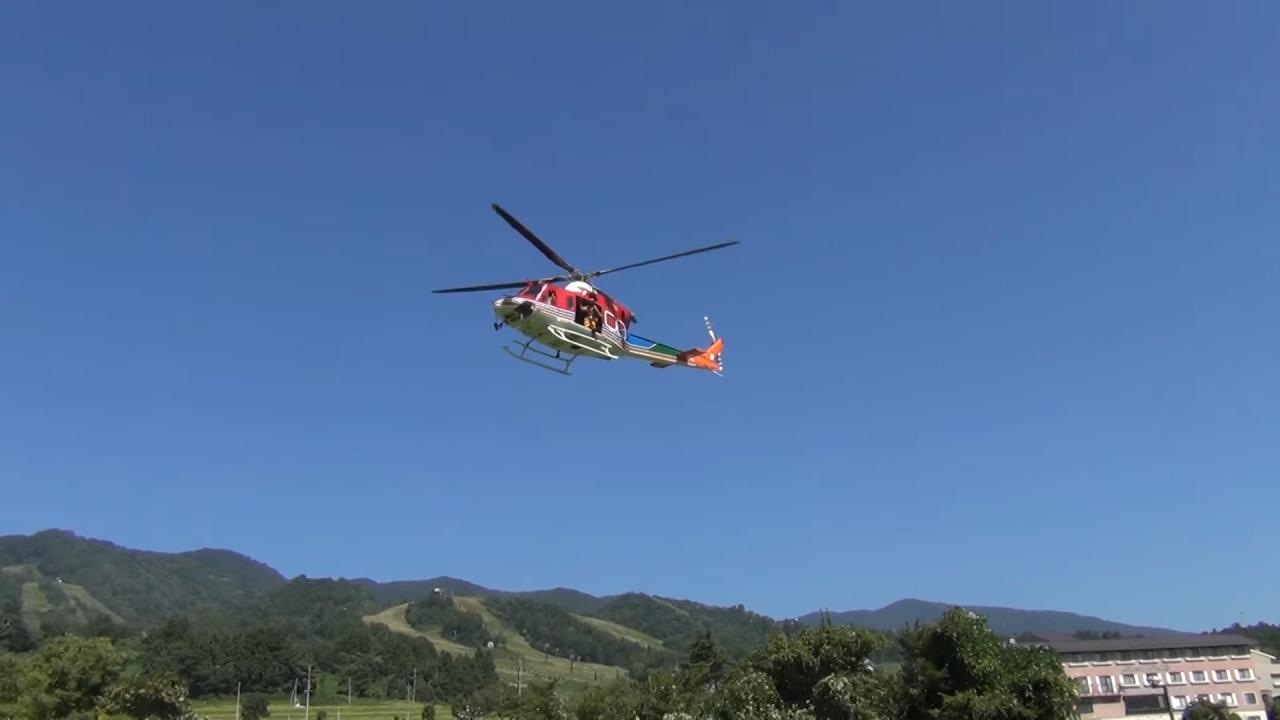Helicopter: (416, 190, 759, 394)
